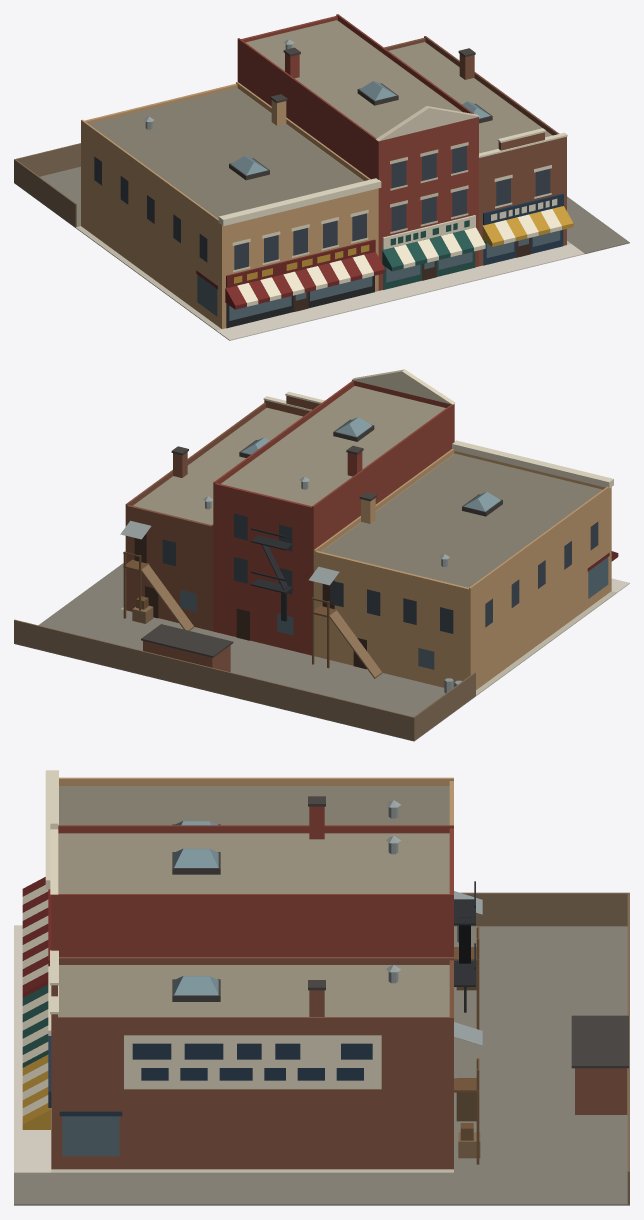
File: store_b.glb
3 renders of one model, top to bottom at view 1: azimuth 30°, elevation 25°; view 2: azimuth 150°, elevation 25°; view 3: azimuth 270°, elevation 25°, orthographic. The views are drawn at different scales.
Visible parts, largest first — view 1: store_b; view 2: store_b; view 3: store_b.
Boxes of the visible parts, x1,y1,x2,y2 form: store_b: [14, 14, 629, 340]; store_b: [14, 369, 629, 741]; store_b: [14, 770, 629, 1205].
Size of the model in its own units: 30 by 12.3 by 28.
